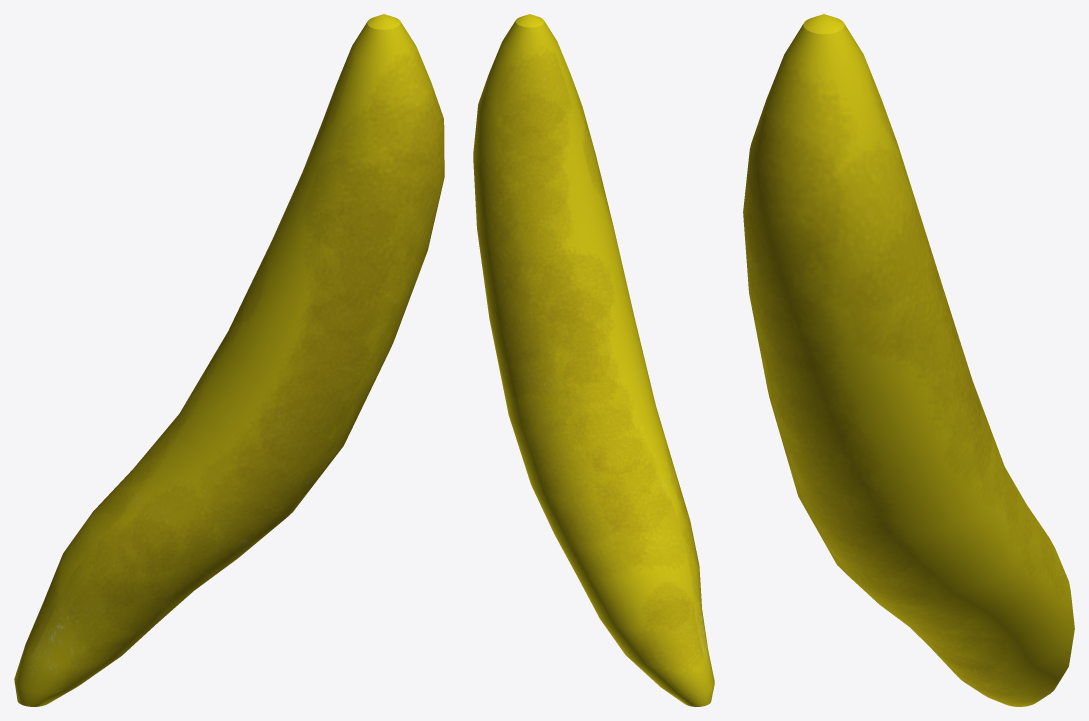
The model's file is bossBananBody.obj.
3 renders of one model, left to right at view 1: azimuth 30°, elevation 25°; view 2: azimuth 150°, elevation 25°; view 3: azimuth 270°, elevation 25°, orthographic. The views are drawn at different scales.
Visible parts, largest first — view 1: 球; view 2: 球; view 3: 球.
Boxes of the visible parts, x1,y1,x2,y2 form: 球: (14,14,444,706); 球: (473,14,714,706); 球: (743,14,1074,706).
Size of the model in its own units: 0.4396 by 0.836 by 0.293.
Materials: 1 (1 with a texture image).
